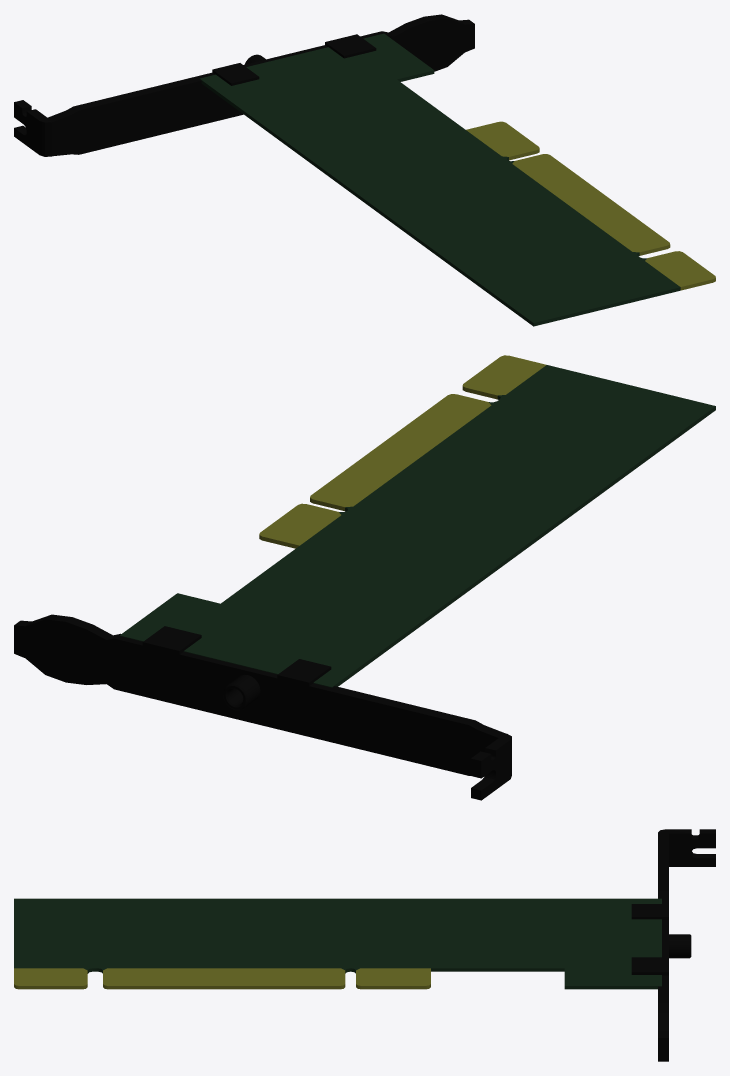
The model's file is Wireless_NIC.fbx.
3 renders of one model, top to bottom at view 1: azimuth 30°, elevation 25°; view 2: azimuth 150°, elevation 25°; view 3: azimuth 270°, elevation 25°, orthographic. The views are drawn at different scales.
Parts seen in each view (by area): view 1: WIRELESSNIC2; view 2: WIRELESSNIC2; view 3: WIRELESSNIC2.
Boxes of the visible parts, bbox=[...] form: WIRELESSNIC2: bbox=[14, 14, 715, 326]; WIRELESSNIC2: bbox=[14, 355, 715, 800]; WIRELESSNIC2: bbox=[14, 829, 715, 1061].
Bounding box in the file's own units: 101 × 11.84 × 147.
